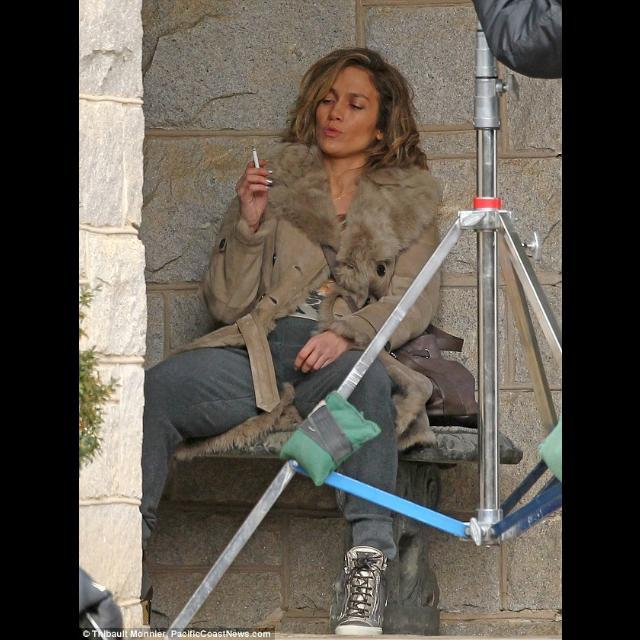rokok: (248, 144, 266, 176)
